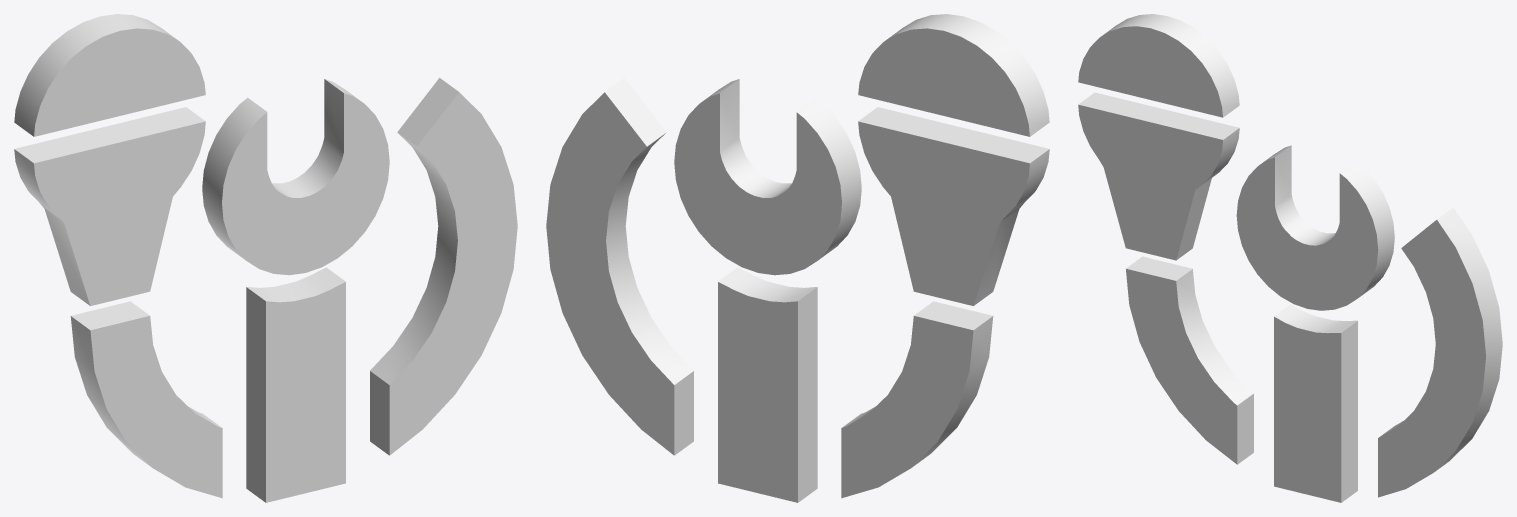
File: options.ico.obj
3 renders of one model, left to right at view 1: azimuth 30°, elevation 25°; view 2: azimuth 150°, elevation 25°; view 3: azimuth 330°, elevation 25°, orthographic. The views are drawn at different scales.
Size of the model in its own units: 4.68 by 4.69 by 0.3303.
1 material, 1 textured.
